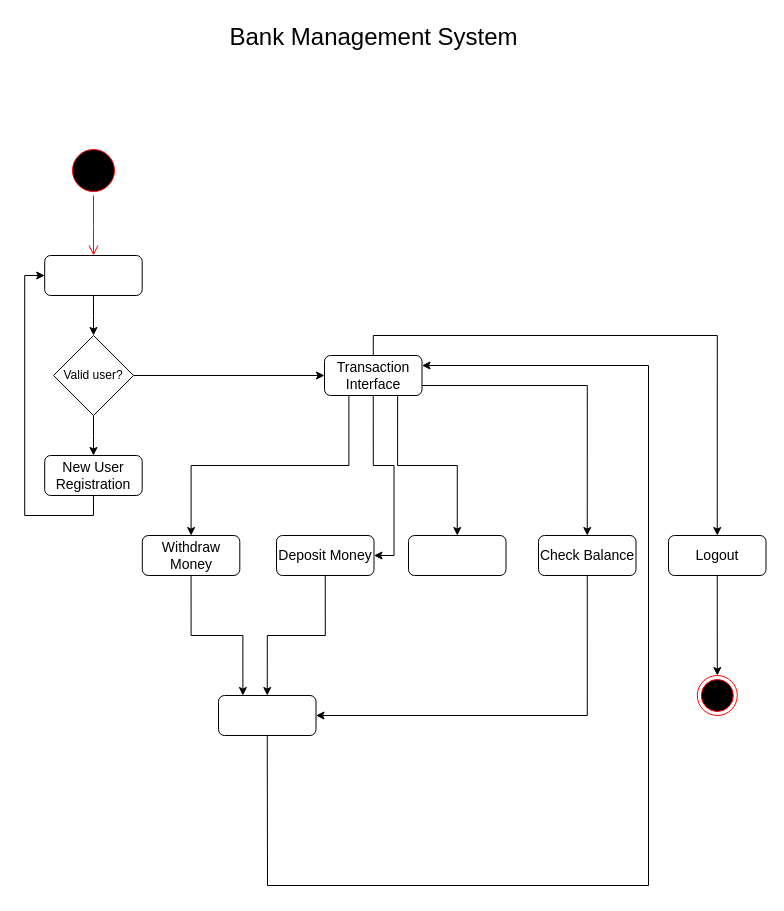
The diagram is 784 pixels wide and 911 high, and some of its shapes have lost their labels. The centre of each missing label's shape, as x and y in pixels:
Generate Statement: the point at 267,715
Login: the point at 93,275
View Account info: the point at 457,555
